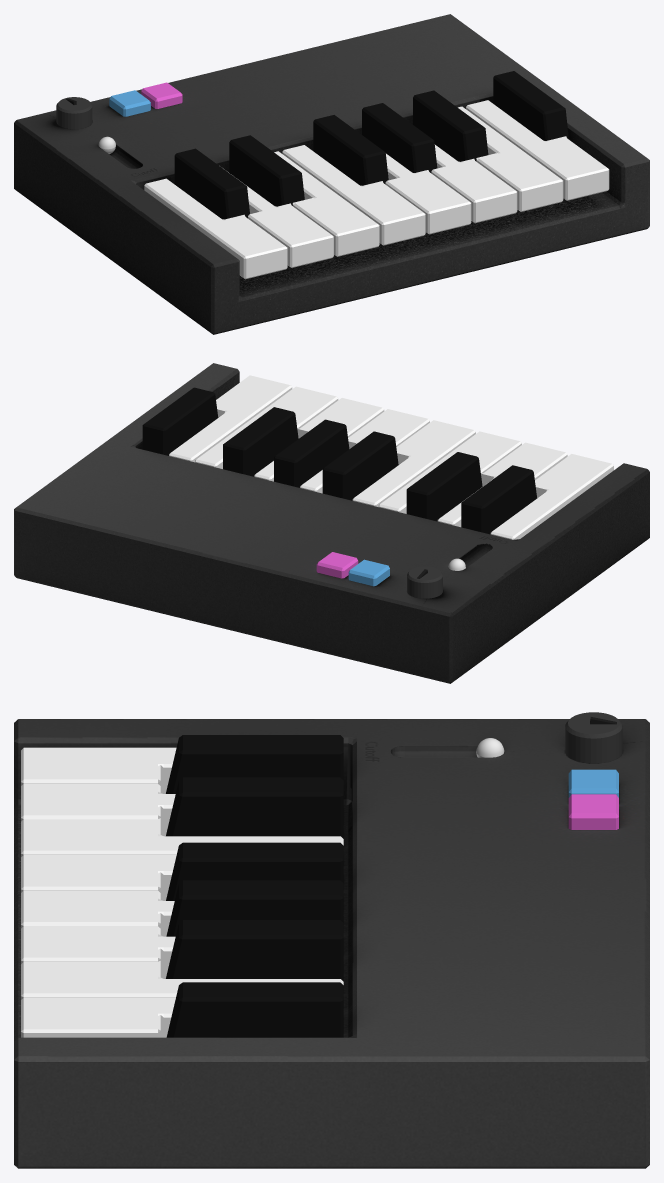
File: 3D-synth-1i.gltf
3 renders of one model, top to bottom at view 1: azimuth 30°, elevation 25°; view 2: azimuth 150°, elevation 25°; view 3: azimuth 270°, elevation 25°, orthographic. The views are drawn at different scales.
Parts seen in each view (by area): view 1: cabinet, Key@0-C3, Key@12-C4, Key@5-F3, Key@11-B3, Key@4-E3, Key@2-D3, Key@3-Eb3, Key@7-G3, Key@6-Gb3, Key@10-Bb3, Key@1-Db3 (+6 smaller); view 2: cabinet, Key@0-C3, Key@5-F3, Key@12-C4, Key@3-Eb3, Key@6-Gb3, Key@10-Bb3, Key@1-Db3, Key@13-Db4, Key@8-Ab3, Key@11-B3, Key@4-E3 (+6 smaller); view 3: cabinet, Key@3-Eb3, Key@10-Bb3, Key@13-Db4, Key@1-Db3, Key@8-Ab3, Key@6-Gb3, Key@4-E3, Key@12-C4, Key@11-B3, Key@0-C3, Key@2-D3 (+6 smaller).
Part boxes in pixels (x1,y1,x2,y2): cabinet: (14, 14, 649, 334); Key@0-C3: (144, 178, 287, 279); Key@12-C4: (466, 100, 609, 200); Key@5-F3: (282, 145, 425, 245); Key@11-B3: (458, 106, 563, 211); Key@4-E3: (274, 151, 379, 256); Key@2-D3: (223, 168, 333, 267); Key@3-Eb3: (229, 135, 304, 206); Key@7-G3: (385, 153, 471, 234); Key@6-Gb3: (313, 115, 388, 185); Key@10-Bb3: (413, 90, 488, 161); Key@1-Db3: (174, 148, 249, 219); cabinet: (14, 363, 649, 683); Key@0-C3: (490, 454, 613, 539); Key@5-F3: (352, 420, 475, 506); Key@12-C4: (169, 375, 292, 462); Key@3-Eb3: (406, 452, 482, 521); Key@6-Gb3: (322, 431, 398, 500); Key@10-Bb3: (223, 407, 298, 476); Key@1-Db3: (461, 465, 537, 534); Key@13-Db4: (142, 387, 218, 455); Key@8-Ab3: (274, 419, 349, 487); Key@11-B3: (195, 386, 338, 468); Key@4-E3: (378, 431, 521, 513); cabinet: (14, 719, 649, 1168); Key@3-Eb3: (166, 777, 343, 838); Key@10-Bb3: (166, 920, 343, 981); Key@13-Db4: (166, 982, 343, 1037); Key@1-Db3: (166, 735, 343, 793); Key@8-Ab3: (166, 880, 343, 936); Key@6-Gb3: (166, 842, 343, 900); Key@4-E3: (21, 818, 343, 856); Key@12-C4: (21, 997, 175, 1037); Key@11-B3: (21, 961, 343, 999); Key@0-C3: (21, 747, 176, 793); Key@2-D3: (21, 783, 175, 836).
Size of what is drawn, in the model's own units: 2 by 0.4005 by 1.58.
8 materials, 1 textured.
